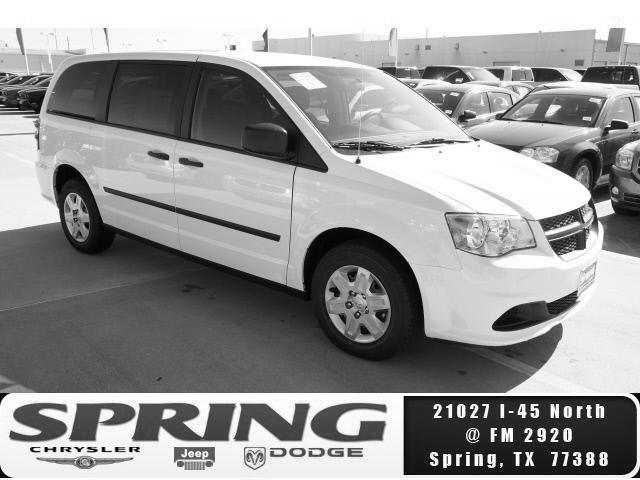car: (32, 47, 607, 366)
